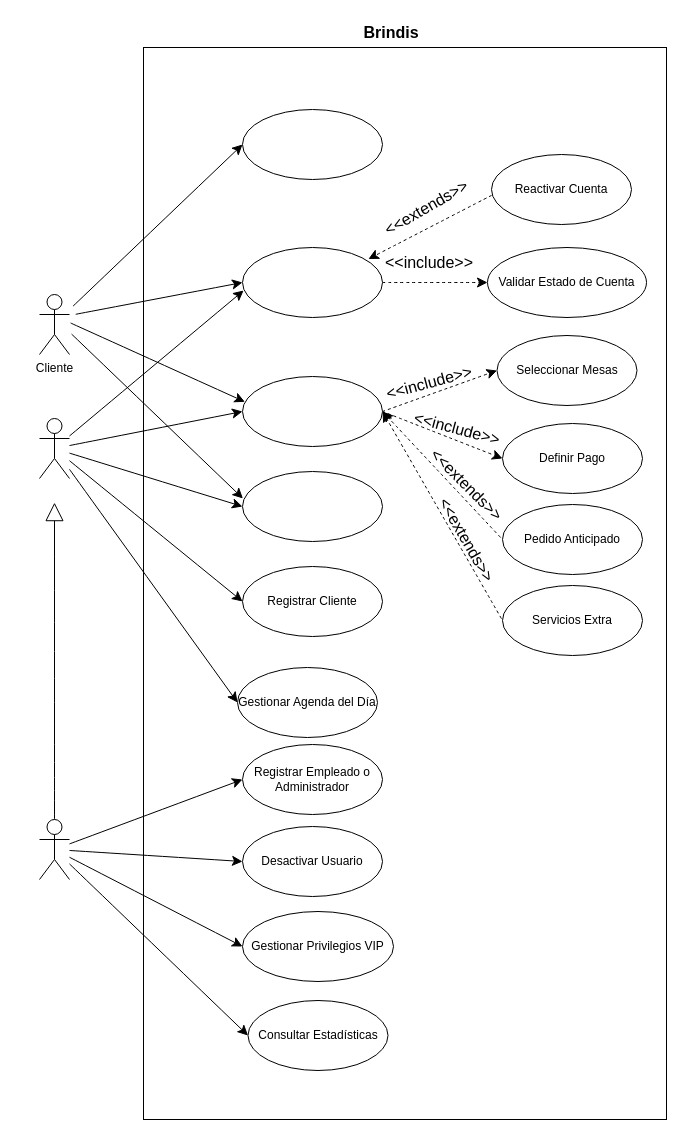
This 684x1137 diagram has some shape labels left out. The centre of each missing label's shape, as x and y in pixels:
Administrador: pixel 54 849
Empleado: pixel 54 448
Iniciar Sesión: pixel 312 282
Modificar o Cancelar Reserva: pixel 312 506
Registrar Reserva: pixel 312 411
Registrarse: pixel 312 144
